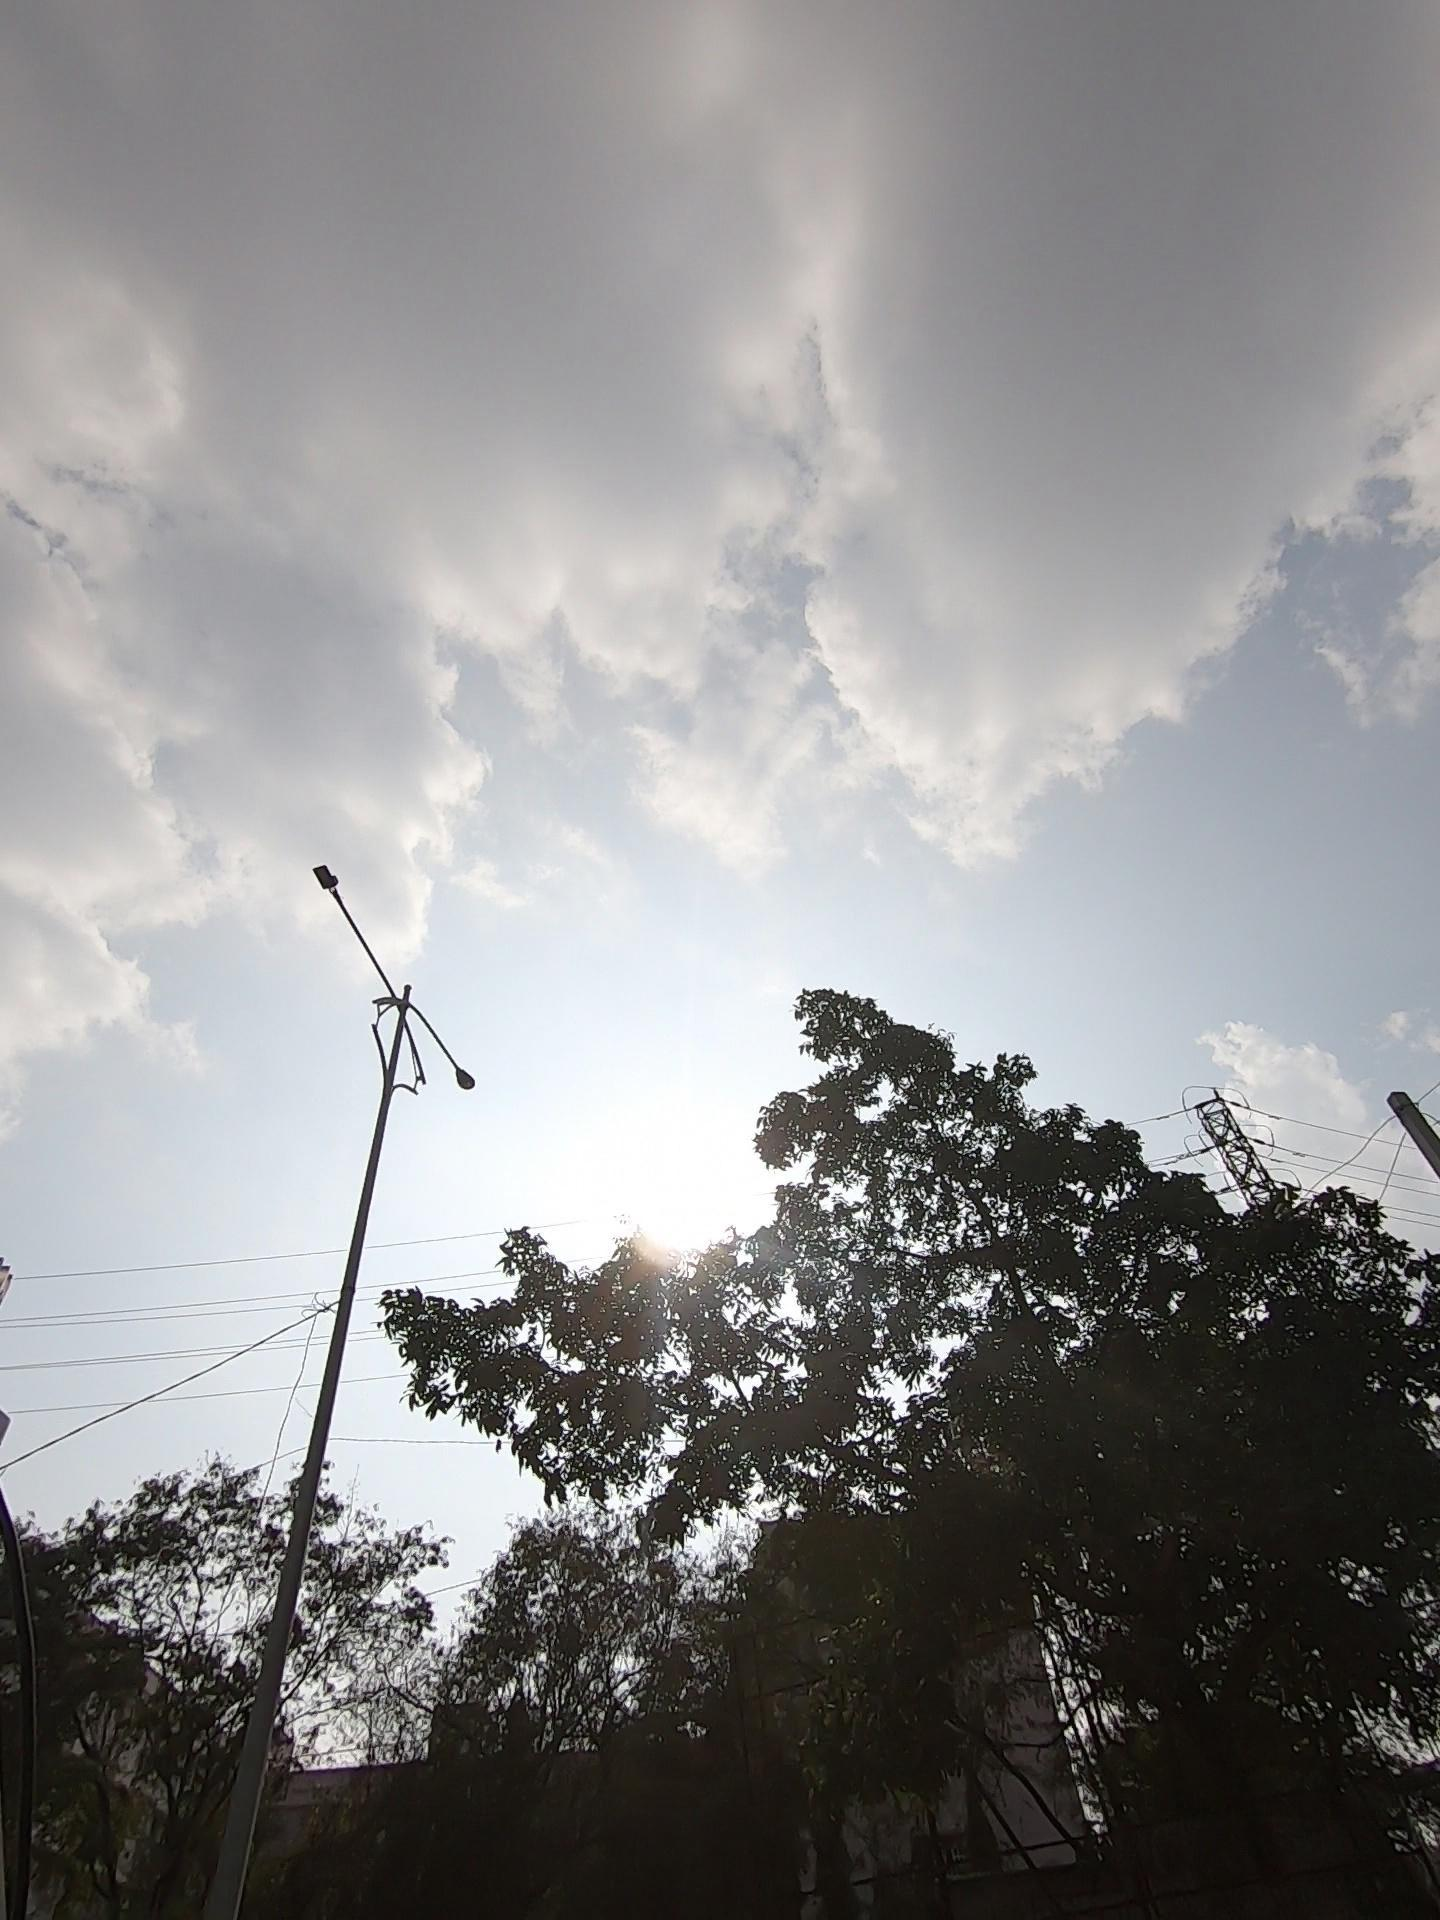off: (191, 797, 584, 1172)
